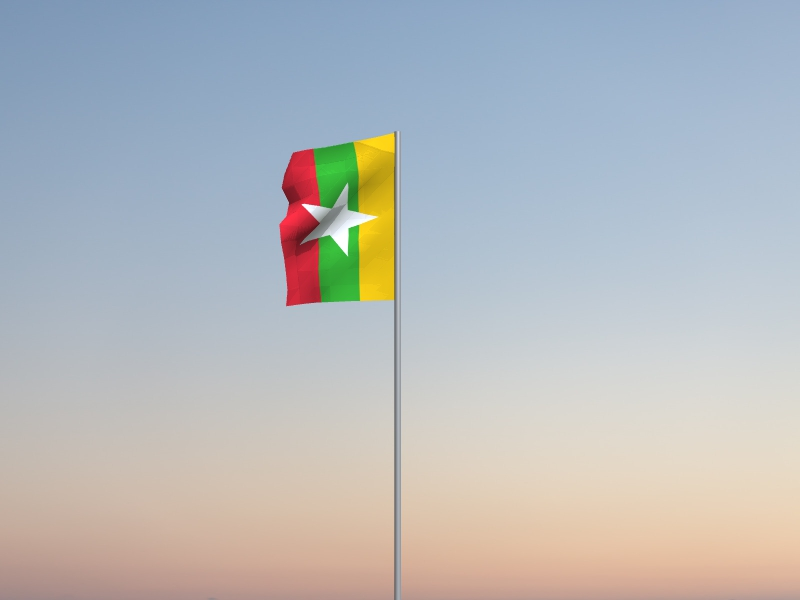mm: (279, 133, 395, 309)
